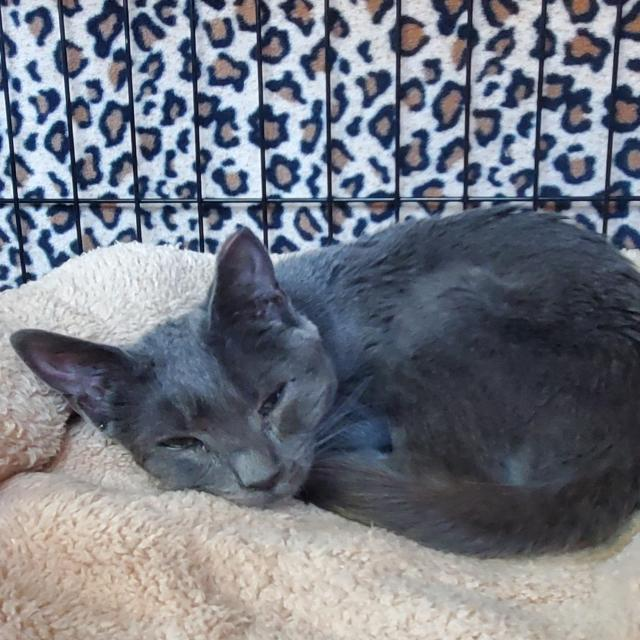american_shorthair_cat: (12, 220, 344, 520)
